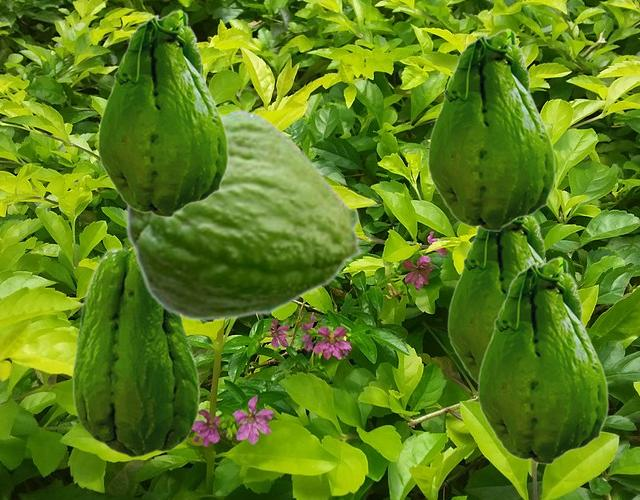sayote: (125, 108, 364, 321), (97, 9, 228, 217), (477, 256, 608, 464), (72, 246, 199, 457), (427, 28, 555, 231), (447, 214, 547, 383)
